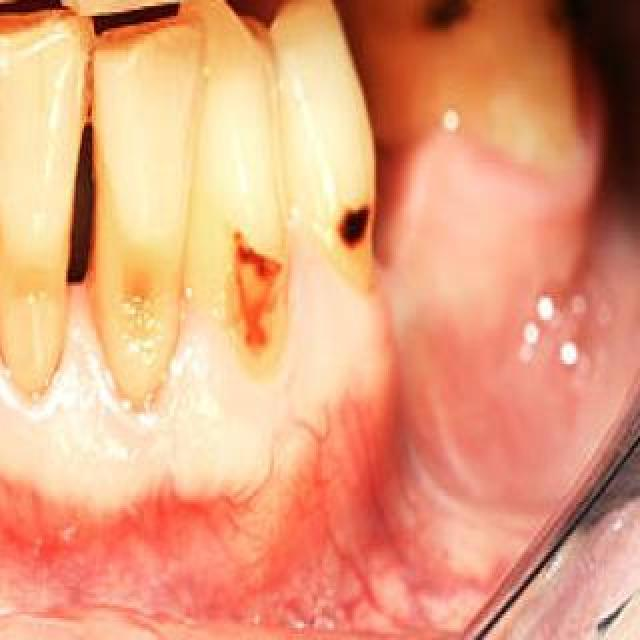cavities: (315, 187, 397, 277), (410, 0, 500, 62)
maligned: (62, 0, 248, 42), (0, 0, 70, 26)
missing: (308, 0, 480, 302)
spacing: (64, 97, 120, 363)
